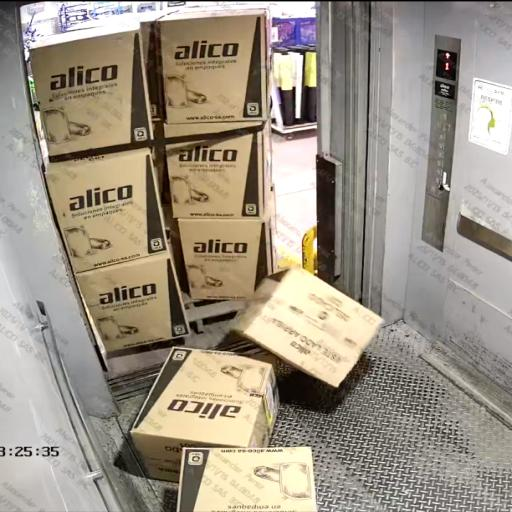Caja caida: (96, 186, 409, 512)
